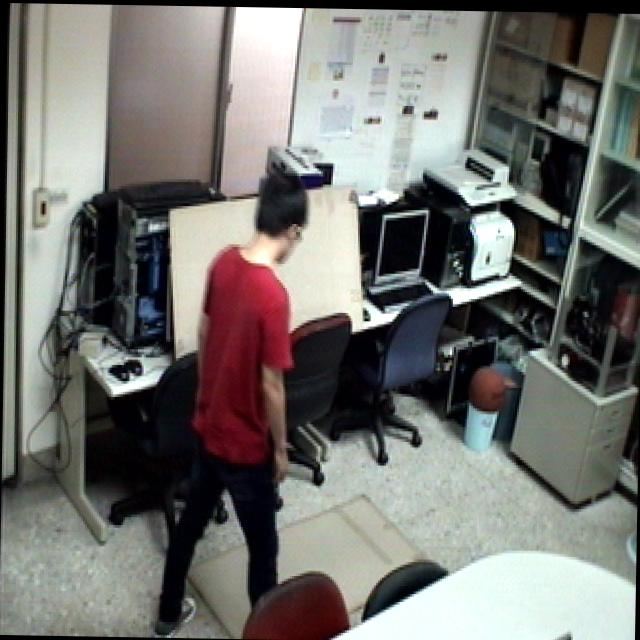stand: (150, 165, 320, 640)
